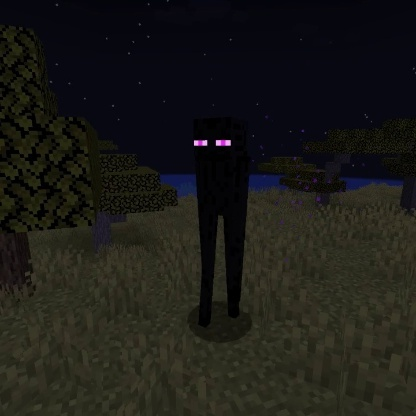enderman: (186, 114, 255, 332)
